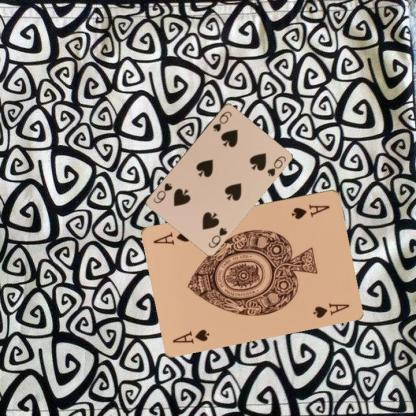6s: (210, 108, 233, 133), (206, 224, 228, 249)
As: (289, 201, 331, 220), (170, 326, 211, 345)
